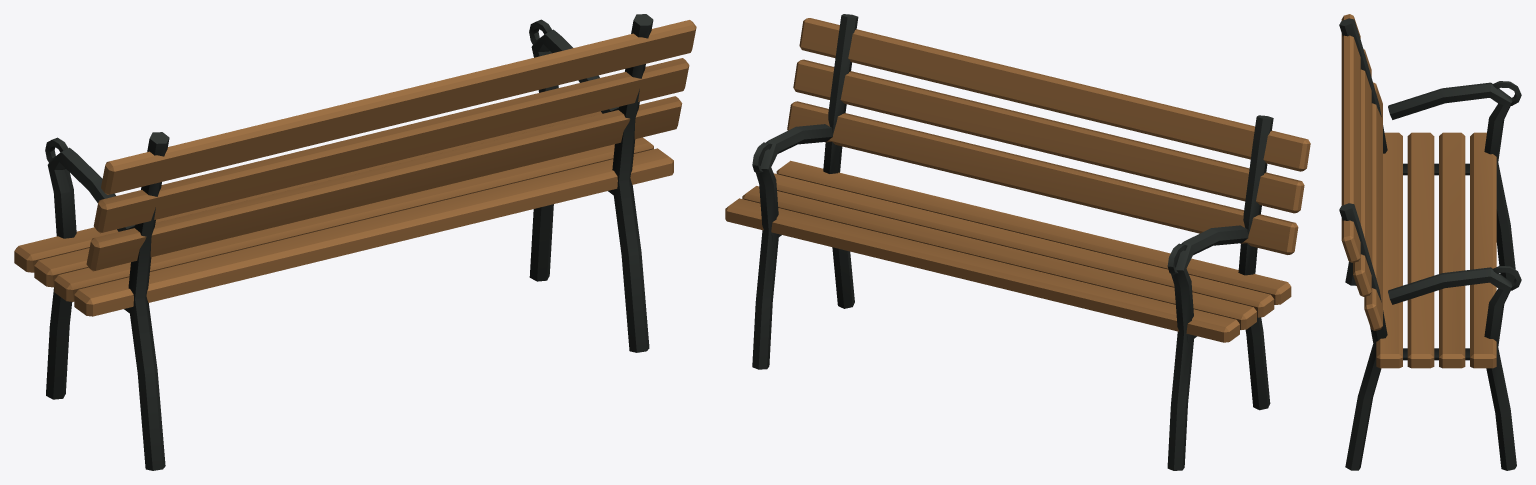
File: kit_street.glb
The picture shows the model from 3 angles, left to right: view 1: azimuth 30°, elevation 25°; view 2: azimuth 150°, elevation 25°; view 3: azimuth 270°, elevation 25°; orthographic projection. The views are drawn at different scales.
Visible parts, largest first — view 1: bench; view 2: bench; view 3: bench.
Boxes of the visible parts, left/top/right/bottom form: bench: left=14, top=14, right=696, bottom=470; bench: left=725, top=14, right=1310, bottom=470; bench: left=1339, top=14, right=1521, bottom=470.
Size of the model in its own units: 1.7 by 0.9309 by 0.5846.
